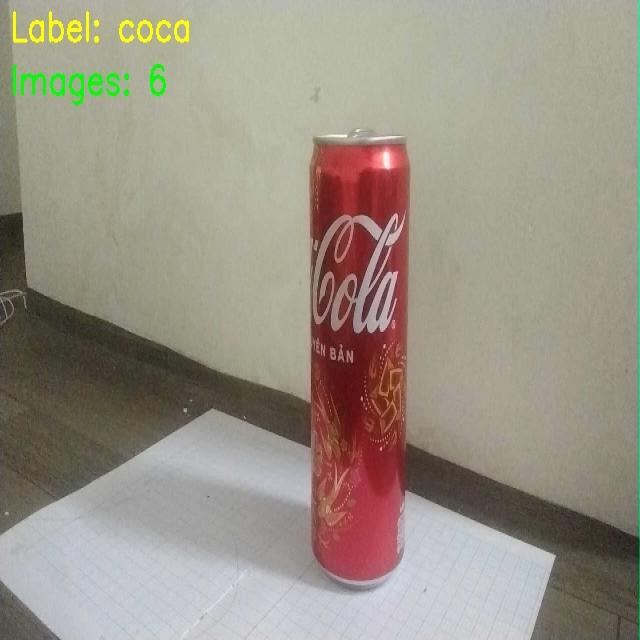Coca: (280, 104, 449, 604)
